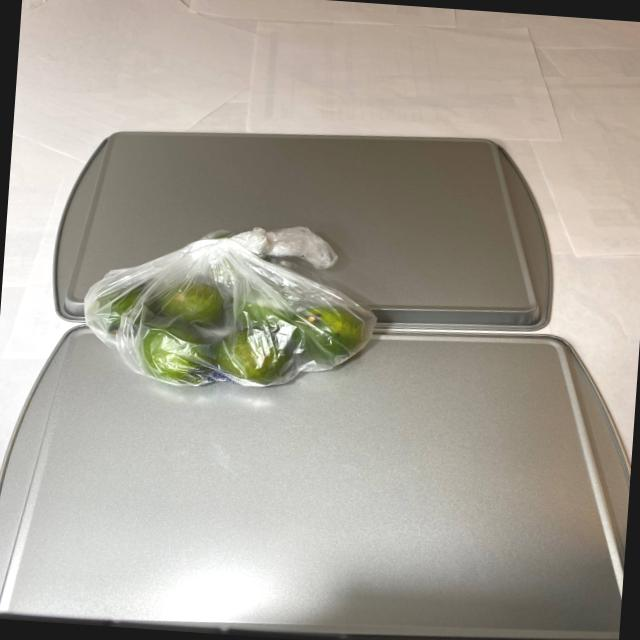lemon: (77, 270, 390, 398)
